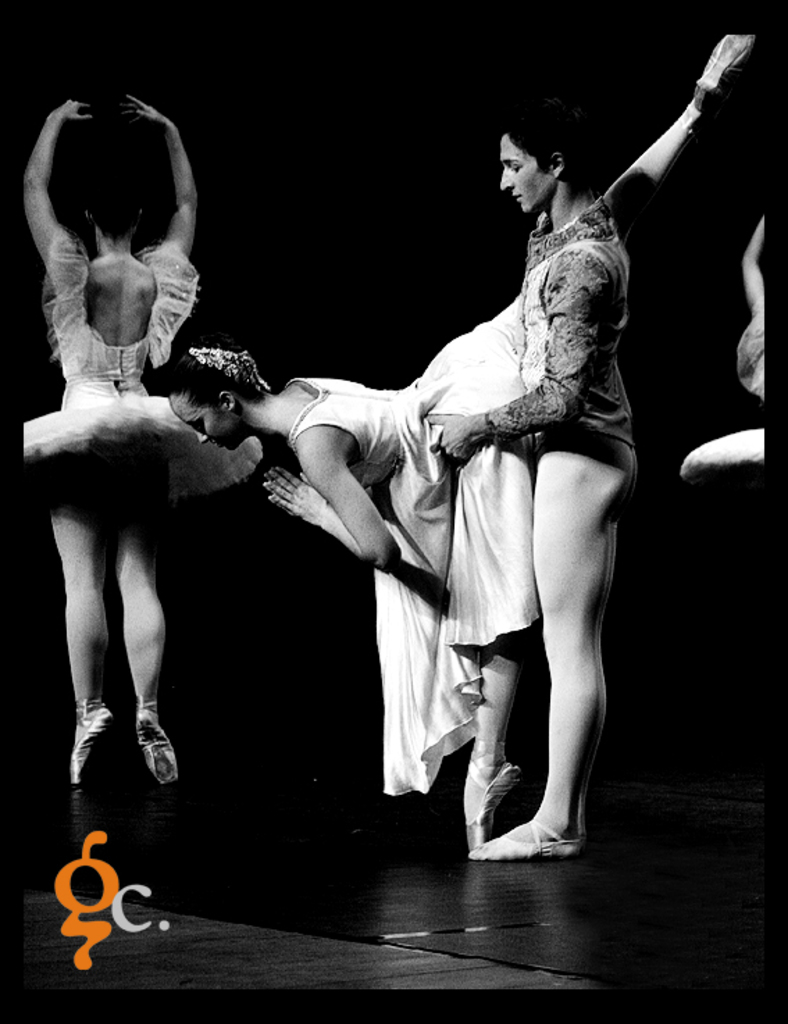Human_hand: (421, 417, 496, 467), (270, 470, 331, 524), (262, 474, 299, 513), (122, 93, 166, 121), (46, 101, 93, 118)
